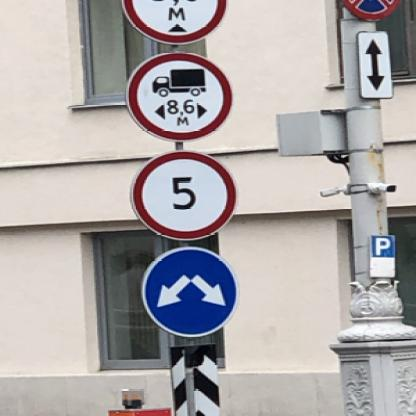speedlimit: (127, 148, 238, 240)
